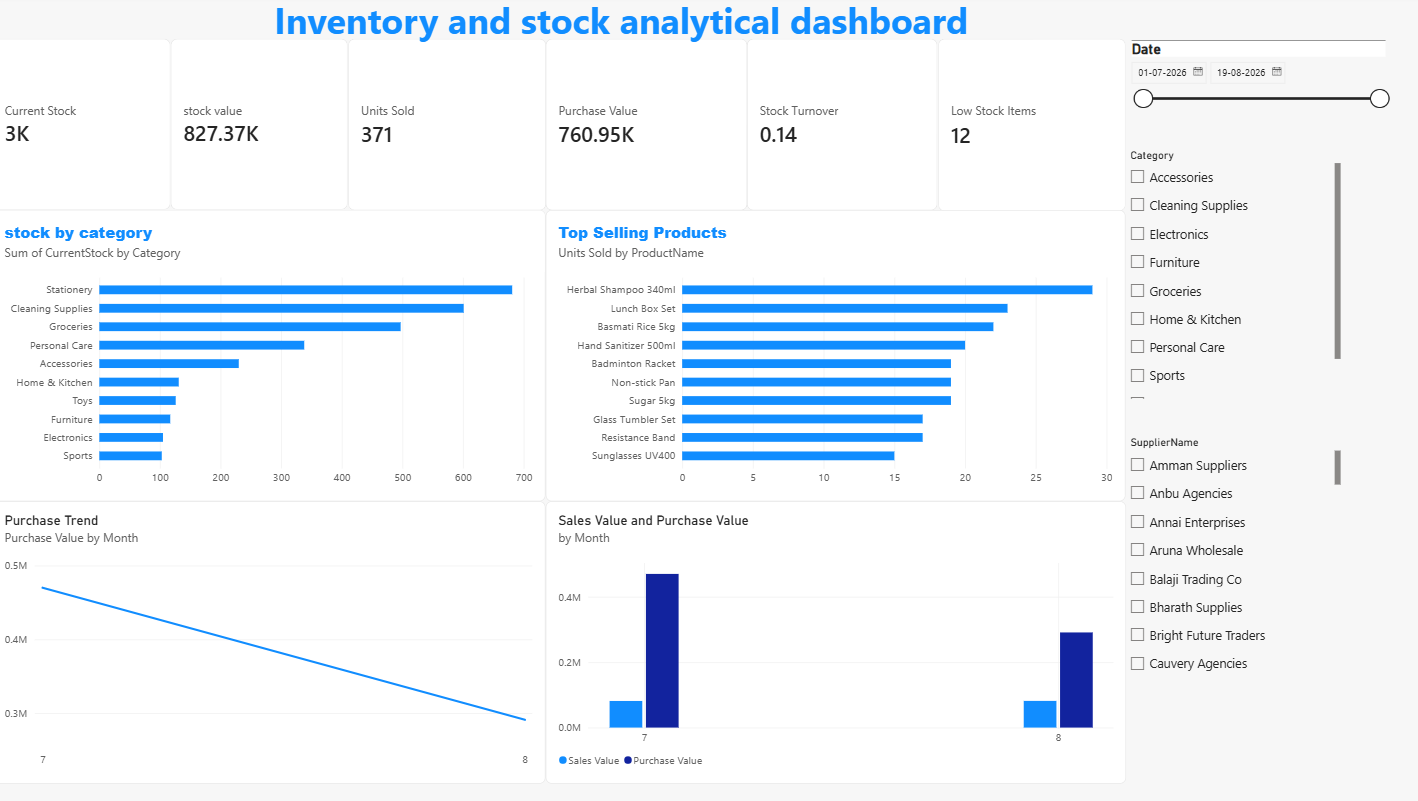

What the dashboard file says about the page in this screenshot:
{"tool":"powerbi","page":{"name":"Page 1","canvas":[1920,1080],"ordinal":0},"visuals":[{"type":"cardVisual","fields":{"Data":["Sales.Current Stock"]},"box":[0,58.3,239.2,229.4],"z":0},{"type":"cardVisual","fields":{"Data":["Sales.stock value"]},"box":[240,58.3,237.3,229.4],"z":1000},{"type":"cardVisual","fields":{"Data":["Sales.Units Sold"]},"box":[476.7,58.3,265,230],"z":2000},{"type":"cardVisual","fields":{"Data":["Sales.Purchase Value"]},"box":[741.7,58.3,270,230],"z":3000},{"type":"cardVisual","fields":{"Data":["Sales.Stock Turnover"]},"box":[1011.7,58.3,255,230],"z":4000},{"type":"cardVisual","fields":{"Data":["Sales.Low Stock Items"]},"box":[1267.2,59.4,251.7,231.7],"z":5000},{"type":"clusteredBarChart","title":"stock by category","fields":{"Category":["Products.Category"],"Y":["Sum(Inventory.CurrentStock)"]},"box":[0,288.3,741.7,390],"z":6000},{"type":"textbox","box":[0,0,1686.4,118.2],"z":7000},{"type":"clusteredBarChart","title":"Top Selling Products","fields":{"Category":["Products.ProductName"],"Y":["Sales.Units Sold"]},"box":[741.7,288.3,776.7,390],"z":8000},{"type":"lineChart","title":"Purchase Trend","fields":{"Y":["Sales.Purchase Value"],"Category":["Date.Month"]},"box":[0,678.5,741.3,378.5],"z":9000},{"type":"slicer","fields":{"Values":["Purchases.Date"]},"box":[1518.8,60.4,356.2,166.7],"z":10000},{"type":"slicer","fields":{"Values":["Products.Category"]},"box":[1517.4,205.8,289.6,335.4],"z":11000},{"type":"slicer","fields":{"Values":["Suppliers.SupplierName"]},"box":[1518.3,591.7,289.6,314.6],"z":12000},{"type":"clusteredColumnChart","fields":{"Y":["Sales.Sales Value","Sales.Purchase Value"],"Category":["Date.Month"]},"box":[741.3,678.5,777.9,378.5],"z":13000}]}

Visuals, with their boxes in screenshot pixels (x1, y1, x2, y2), scaled from the page's 1920x1080 canvas onto the 1418x801 screenshot:
cardVisual - Sales.Current Stock: BBox(0, 43, 177, 213)
cardVisual - Sales.stock value: BBox(177, 43, 353, 213)
cardVisual - Sales.Units Sold: BBox(352, 43, 548, 214)
cardVisual - Sales.Purchase Value: BBox(548, 43, 747, 214)
cardVisual - Sales.Stock Turnover: BBox(747, 43, 936, 214)
cardVisual - Sales.Low Stock Items: BBox(936, 44, 1122, 216)
"stock by category" clusteredBarChart: BBox(0, 214, 548, 503)
textbox: BBox(0, 0, 1245, 88)
"Top Selling Products" clusteredBarChart: BBox(548, 214, 1121, 503)
"Purchase Trend" lineChart: BBox(0, 503, 547, 784)
slicer - Purchases.Date: BBox(1122, 45, 1385, 168)
slicer - Products.Category: BBox(1121, 153, 1335, 401)
slicer - Suppliers.SupplierName: BBox(1121, 439, 1335, 672)
clusteredColumnChart - Sales.Sales Value x Sales.Purchase Value: BBox(547, 503, 1122, 784)
